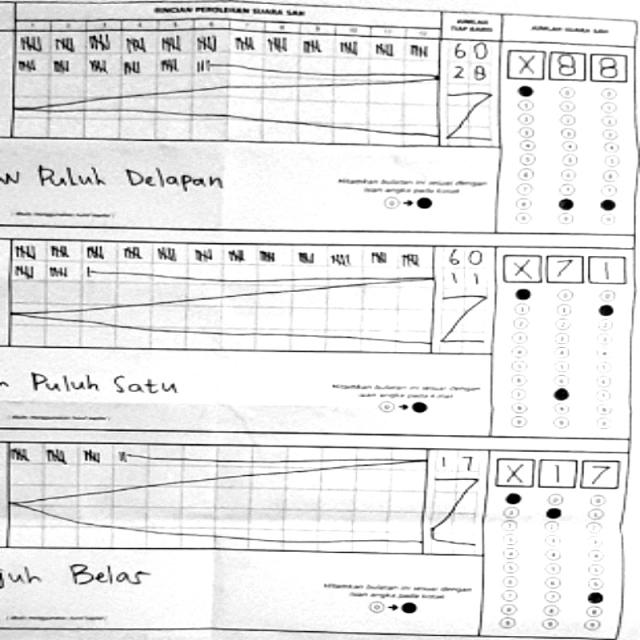Suara: (504, 42, 634, 86), (500, 245, 631, 288), (492, 448, 623, 491)
